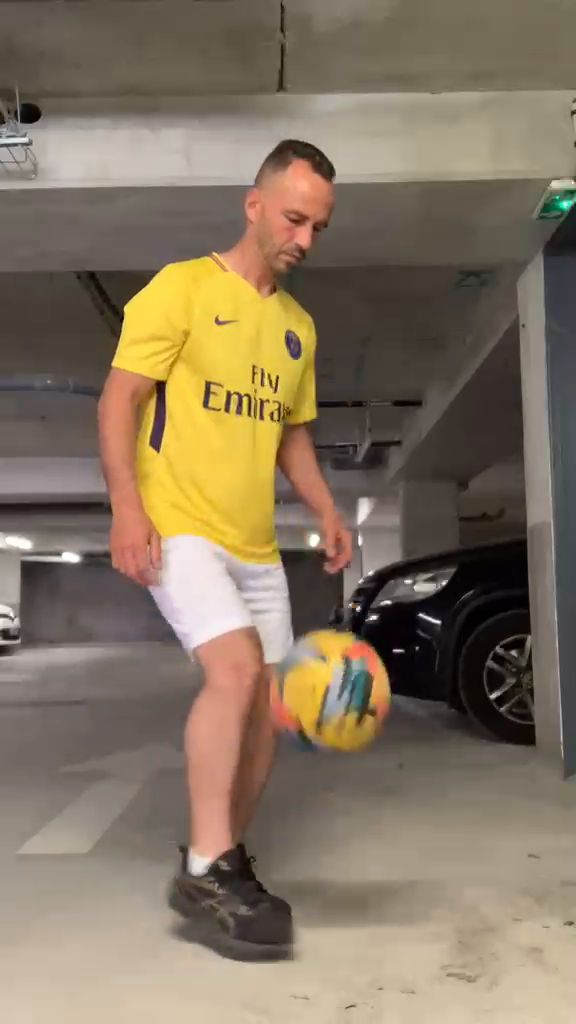ball: (269, 628, 393, 752)
